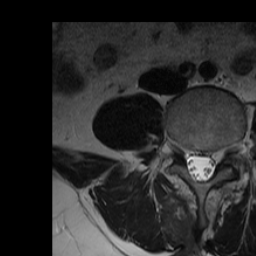CCS_normal: (196, 140, 205, 190)
LFS_normal: (216, 136, 226, 168)
LLS_normal: (205, 140, 216, 183)
RFS_normal: (172, 132, 184, 164)
RLS_normal: (184, 140, 196, 182)
